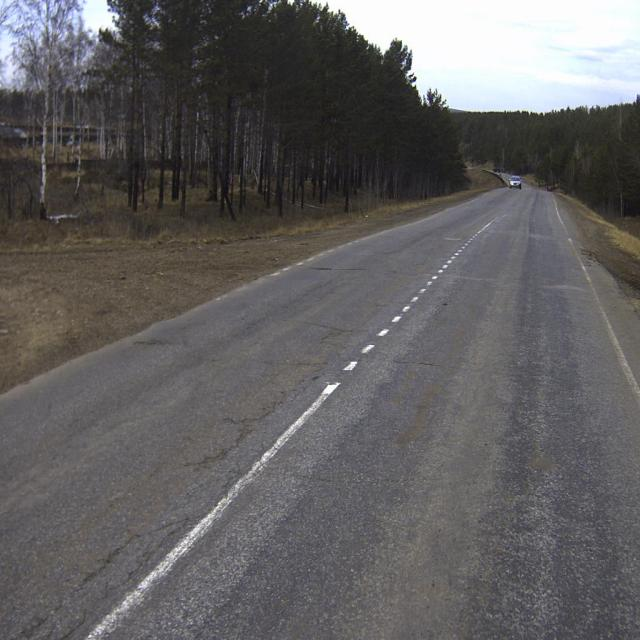road: (0, 172, 640, 639)
